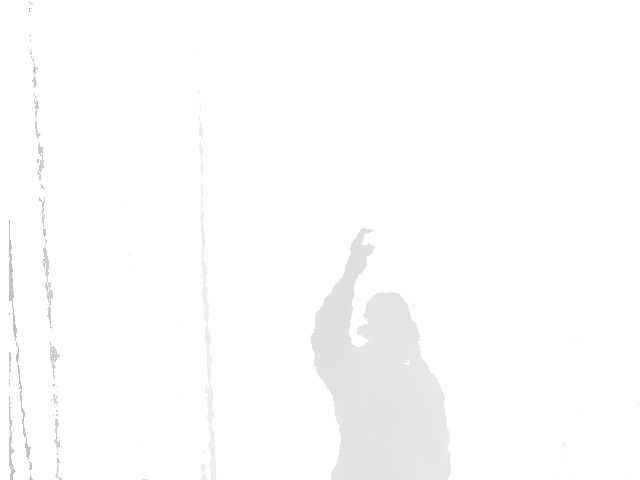hand: (339, 227, 374, 282)
head: (358, 291, 423, 359)
person: (310, 226, 451, 480)
